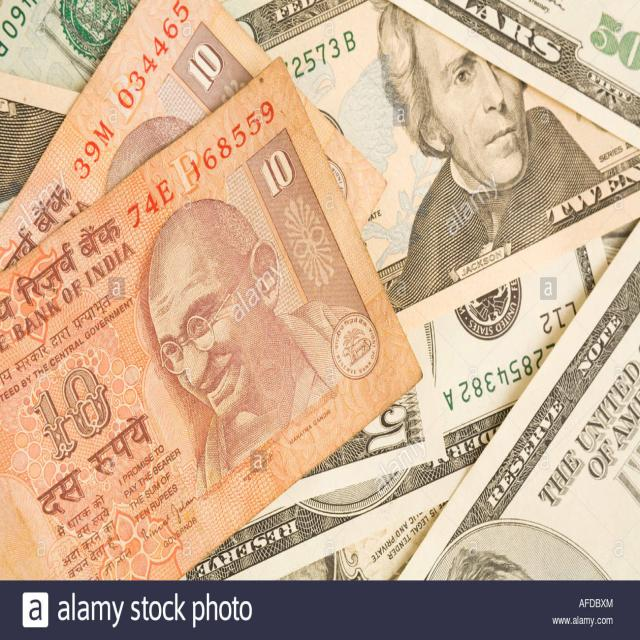10IndianRupees: (0, 55, 420, 578)
